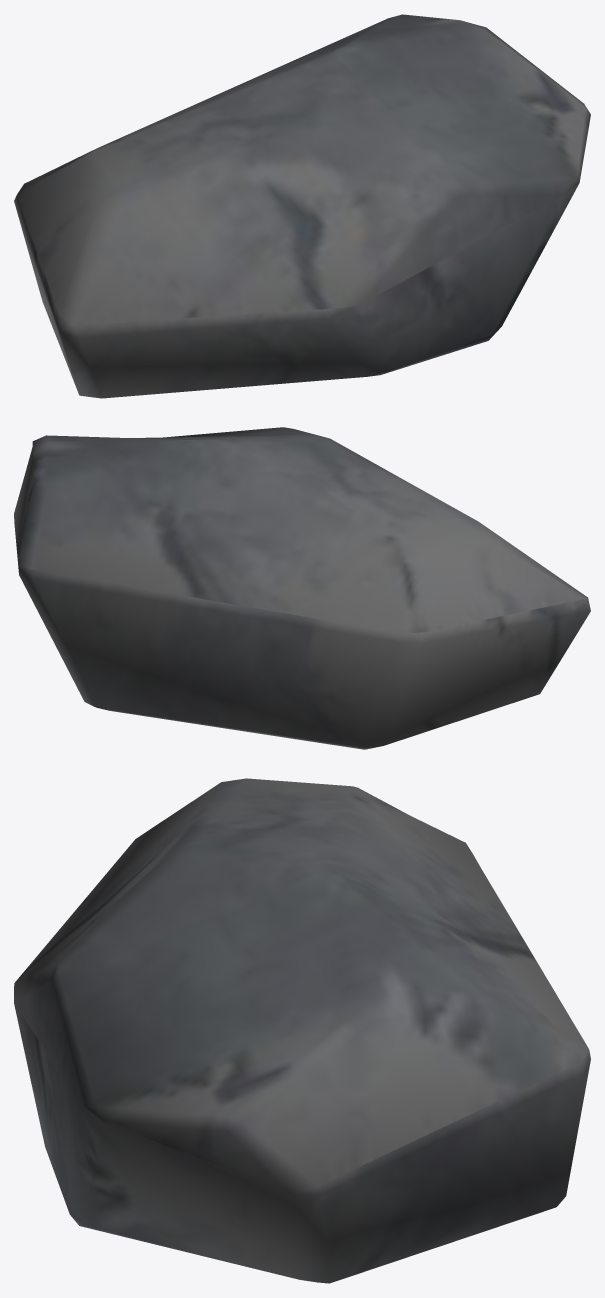
The model's file is Pedra5.fbx.
3 views of the same model, one above another, from view 1: azimuth 30°, elevation 25°; view 2: azimuth 150°, elevation 25°; view 3: azimuth 270°, elevation 25° (orthographic). The views are drawn at different scales.
Parts seen in each view (by area): view 1: Pedra5; view 2: Pedra5; view 3: Pedra5.
Boxes of the visible parts, x1,y1,x2,y2 form: Pedra5: (14,14,590,398); Pedra5: (14,427,590,749); Pedra5: (14,778,590,1283).
Bounding box in the file's own units: 119 × 48.39 × 79.28.
